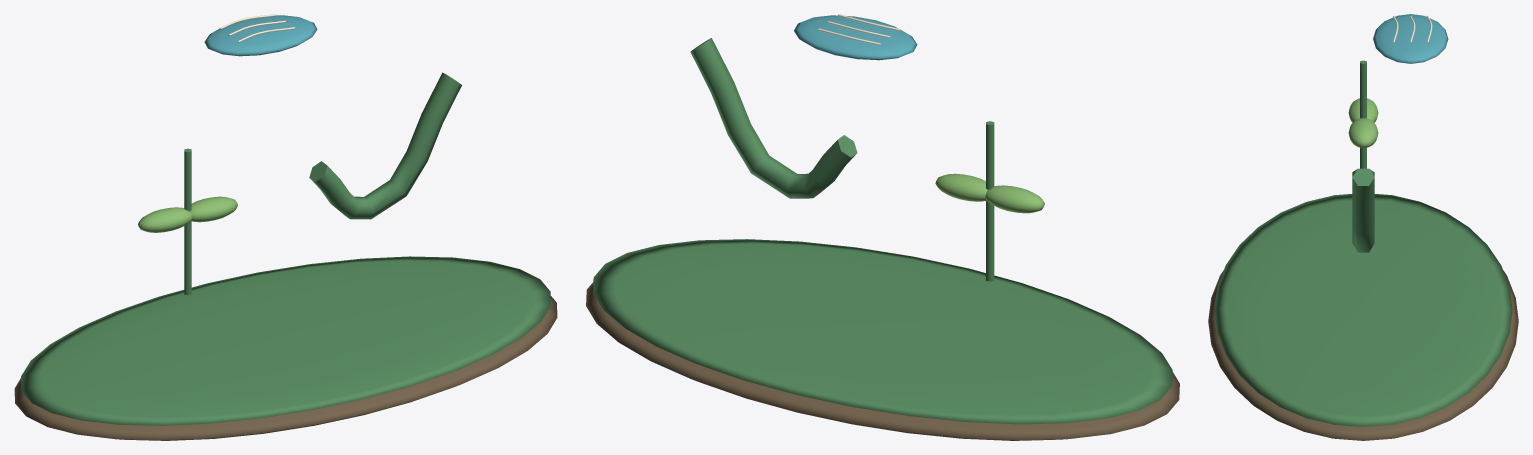
Rendered from complete-third-raised-success.glb.
3 renders of one model, left to right at view 1: azimuth 30°, elevation 25°; view 2: azimuth 150°, elevation 25°; view 3: azimuth 270°, elevation 25°, orthographic. The views are drawn at different scales.
Visible parts, largest first — view 1: complete-third-raised-success_surface_01, complete-third-raised-success_surface_00, complete-third-raised-success_surface_03, complete-third-raised-success_surface_02; view 2: complete-third-raised-success_surface_01, complete-third-raised-success_surface_00, complete-third-raised-success_surface_03, complete-third-raised-success_surface_02, complete-third-raised-success_surface_04; view 3: complete-third-raised-success_surface_01, complete-third-raised-success_surface_00, complete-third-raised-success_surface_03, complete-third-raised-success_surface_02.
Boxes of the visible parts, x1,y1,x2,y2 form: complete-third-raised-success_surface_01: [21, 72, 550, 425]; complete-third-raised-success_surface_00: [14, 296, 557, 440]; complete-third-raised-success_surface_03: [204, 15, 317, 56]; complete-third-raised-success_surface_02: [138, 196, 237, 232]; complete-third-raised-success_surface_01: [593, 38, 1172, 424]; complete-third-raised-success_surface_00: [586, 282, 1179, 440]; complete-third-raised-success_surface_03: [794, 15, 917, 60]; complete-third-raised-success_surface_02: [935, 173, 1044, 213]; complete-third-raised-success_surface_04: [818, 14, 900, 45]; complete-third-raised-success_surface_01: [1214, 60, 1512, 426]; complete-third-raised-success_surface_00: [1208, 270, 1518, 440]; complete-third-raised-success_surface_03: [1373, 14, 1448, 63]; complete-third-raised-success_surface_02: [1348, 98, 1378, 147].
Bounding box in the file's own units: 4.56 × 2.72 × 2.5.
